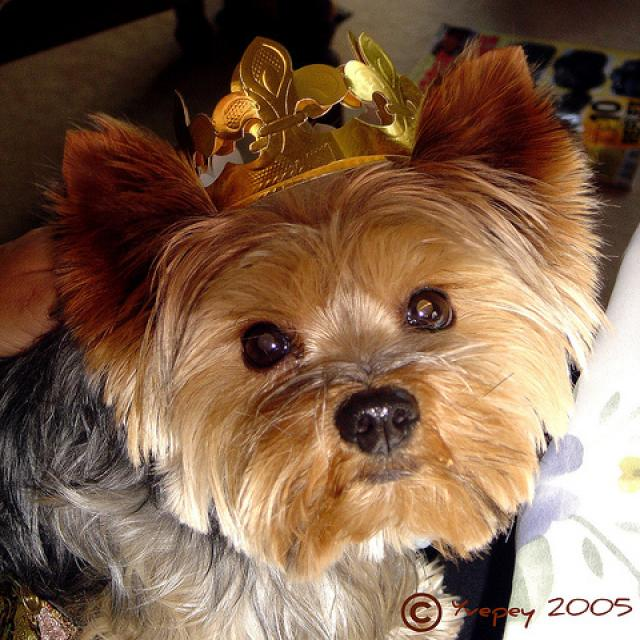dog-yorkshire_terrier: (1, 29, 621, 637)
